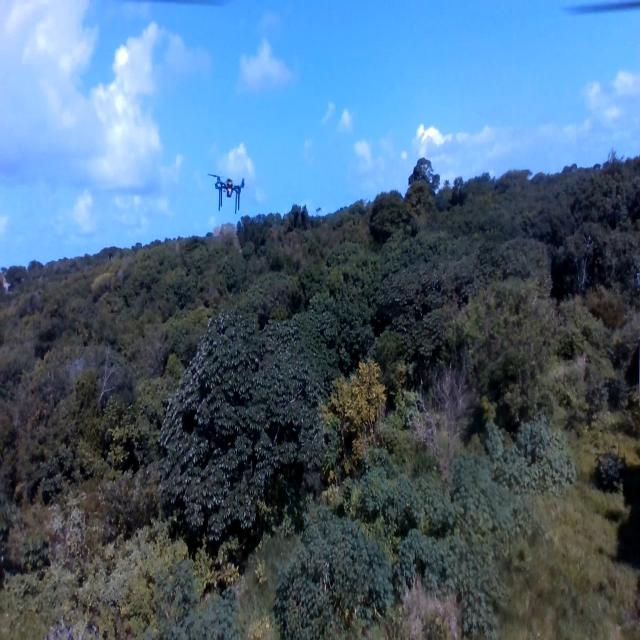-uav-: (206, 167, 252, 221)
